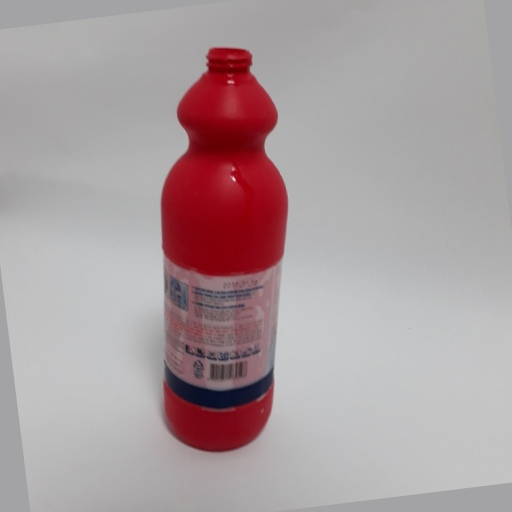Plastic_0: (154, 46, 290, 456)
